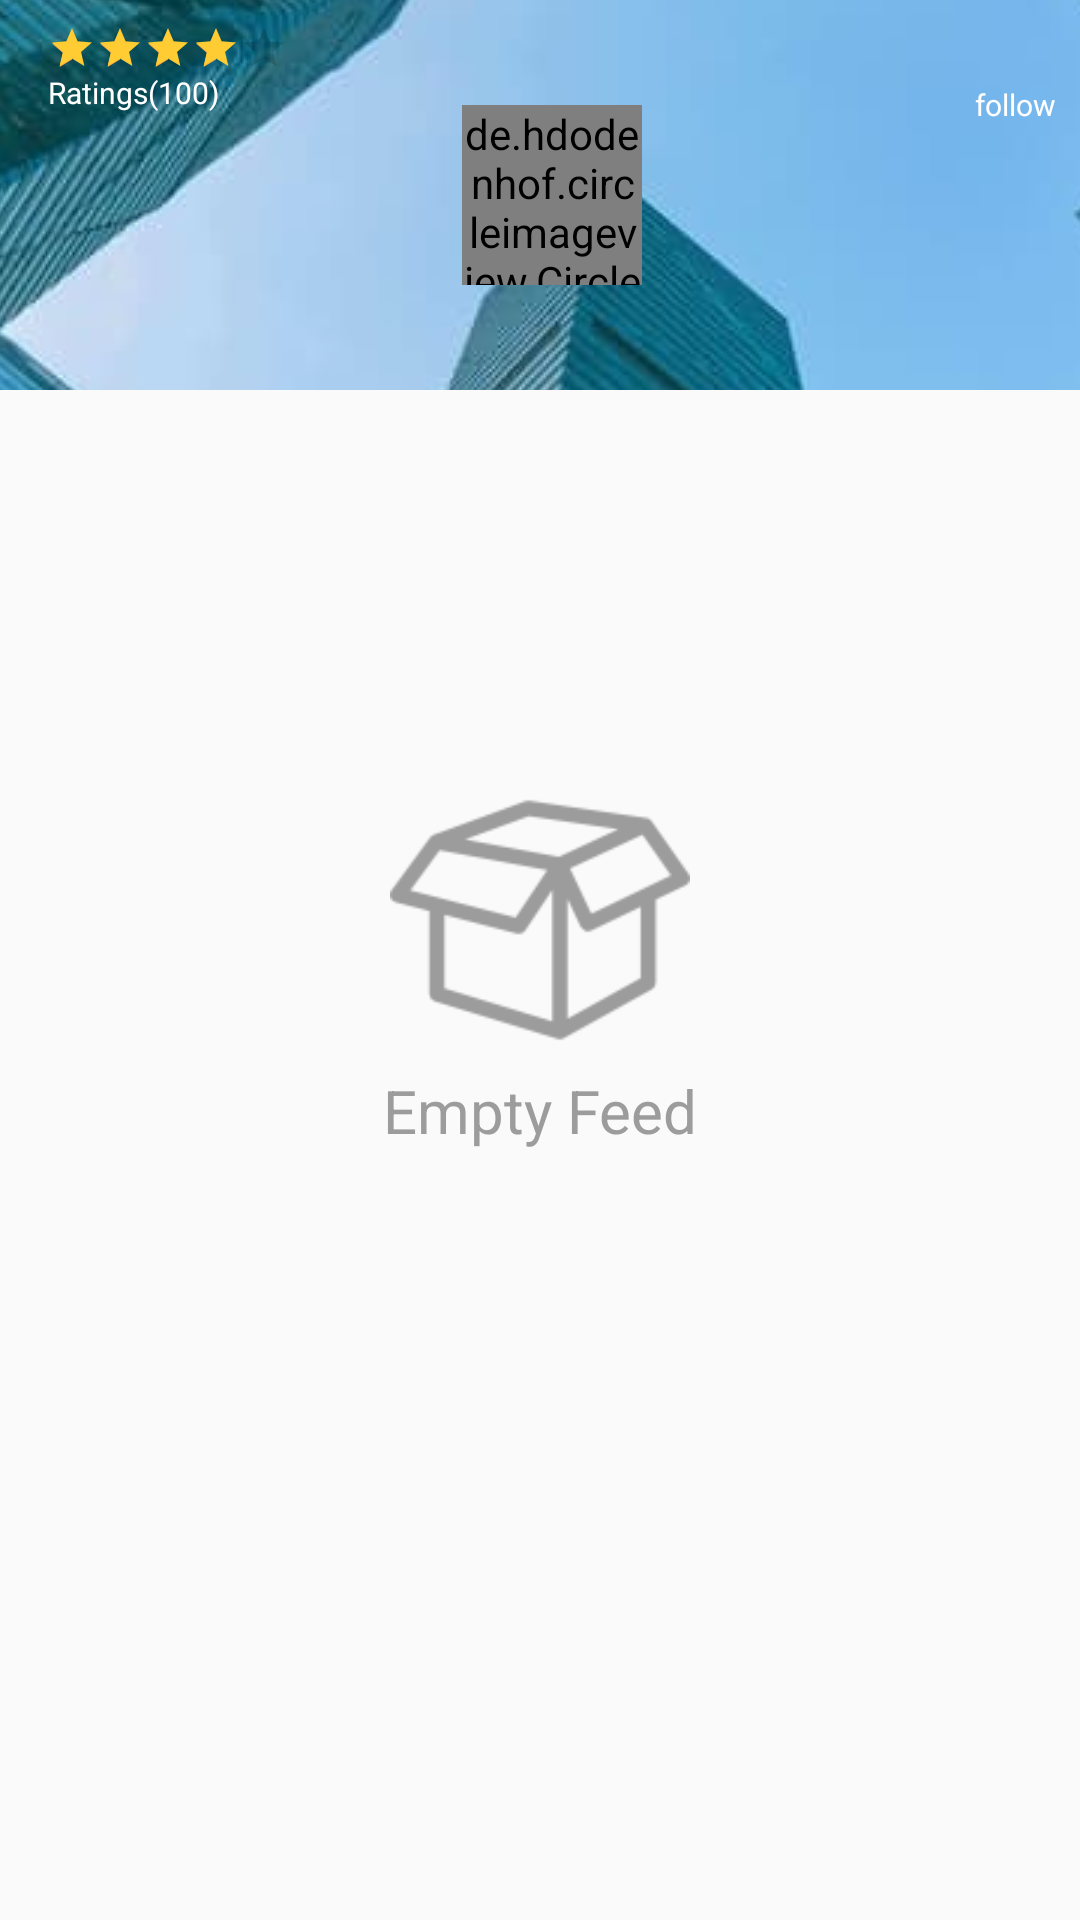

Point at icon controls on the screen. Image size 1080x1920, points as (x,y).
empty box: (540,920)
